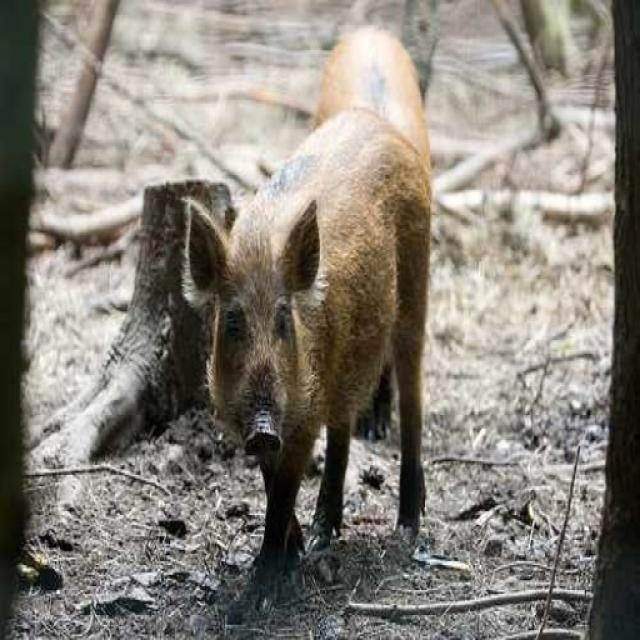pig: (202, 16, 463, 578)
